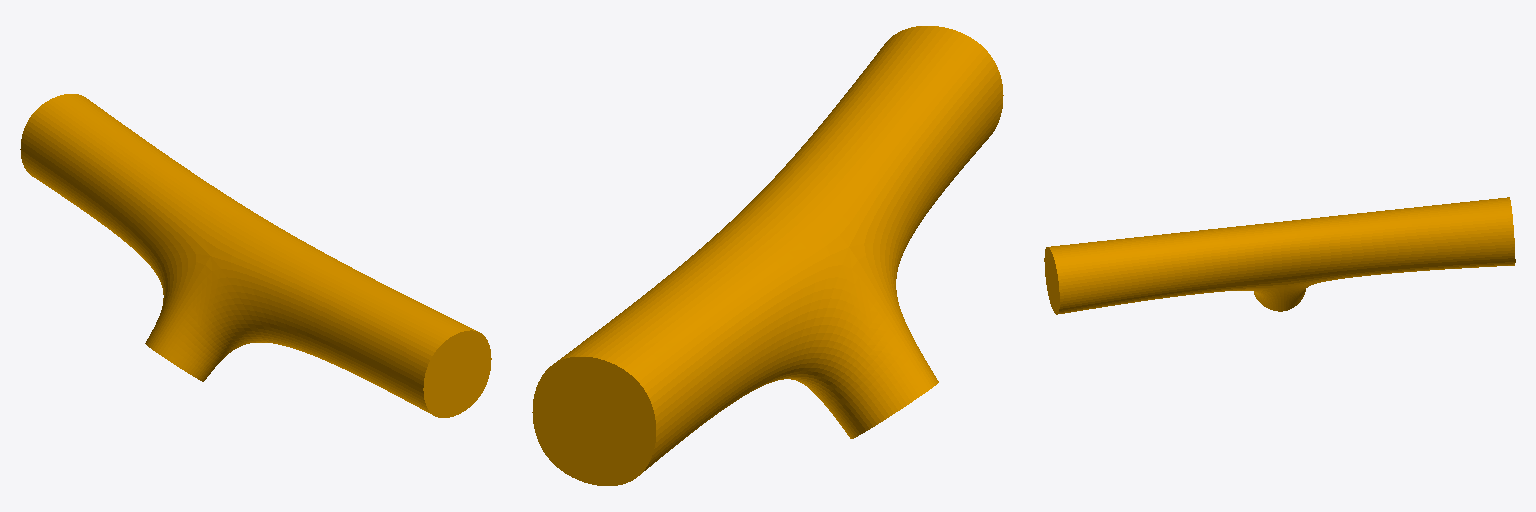
The robot description file, URDF, robot "object":
<robot name="object">
  <link name="object">
    <visual>
      <origin xyz="0 0 0"/>
      <geometry>
        <mesh filename="visual.obj" scale="1 1 1"/>
      </geometry>
    </visual>
    <collision>
      <origin xyz="0 0 0"/>
      <geometry>
        <mesh filename="visual.obj" scale="1 1 1"/>
      </geometry>
    </collision>
    <inertial>
      <mass value="0.05"/>
      <inertia ixx="2.796174691094383e-05" iyy="2.2017440122540116e-06" izz="2.8569723115268643e-05" ixy="4.059729894623882e-06" ixz="-1.2216405530559895e-07" iyz="-1.2826532915850566e-06"/>
    </inertial>
  </link>
</robot>

--- Facts derived from the render (not from the file) ---
3 views of the same robot in one strip: view 1: azimuth 30°, elevation 25°; view 2: azimuth 150°, elevation 25°; view 3: azimuth 270°, elevation 25° (orthographic).
Model object with 1 links and 0 joints (none), rooted at object, posed all joints at 0.
Visible links, largest first — view 1: object; view 2: object; view 3: object.
Boxes of the visible links, left/top/right/bottom form: object: left=20, top=94, right=491, bottom=417; object: left=532, top=26, right=1003, bottom=485; object: left=1044, top=197, right=1515, bottom=314.
Size in the robot's own frame: 0.0296 by 0.0871 by 0.024 metres.
1 mesh visuals loaded from 1 distinct referenced files (1 OBJ).
